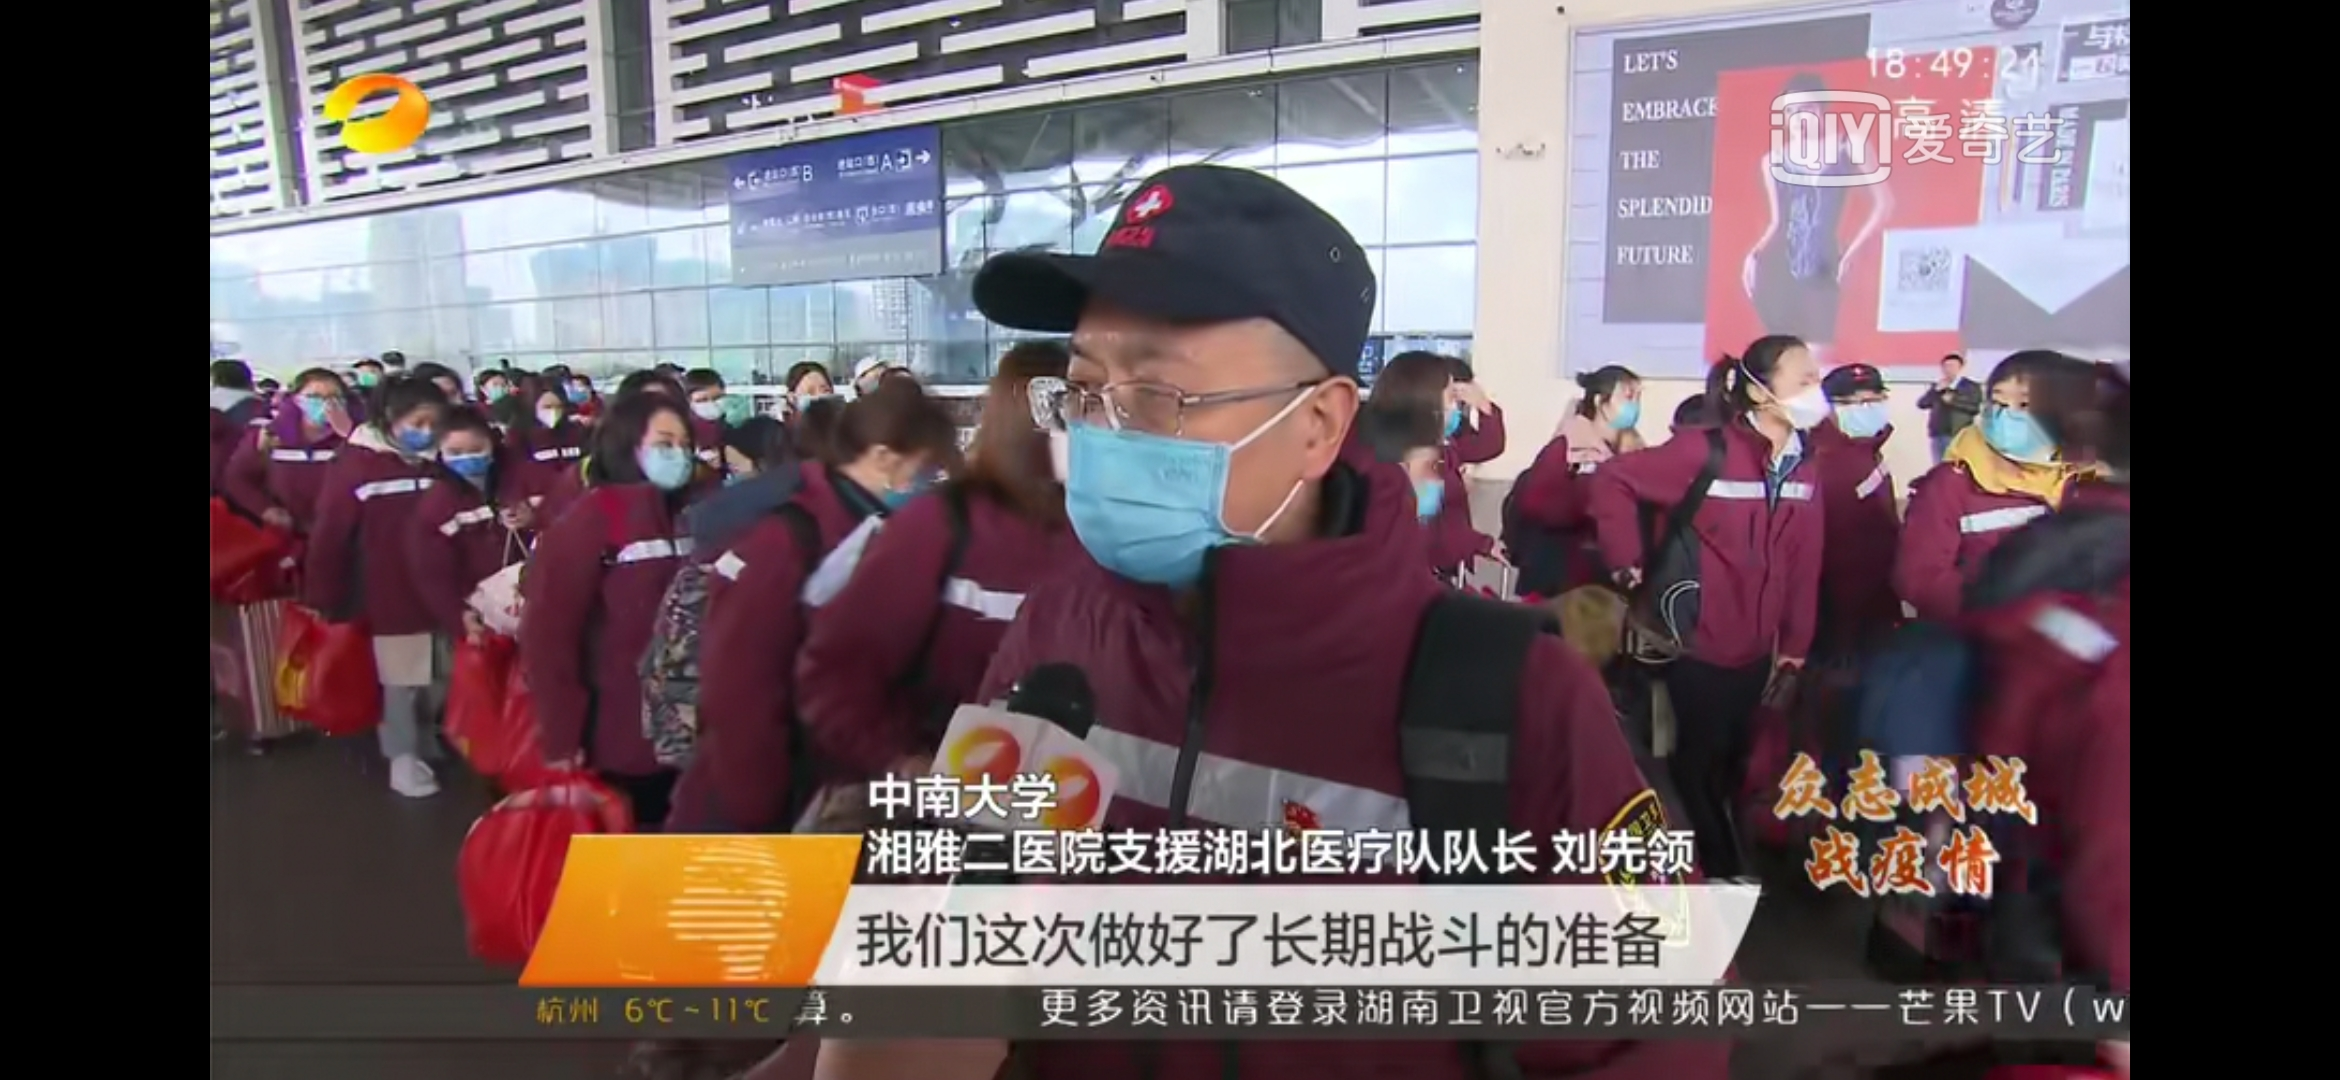correctlyWear: (1045, 306, 1355, 588), (1751, 362, 1830, 442), (1979, 383, 2050, 461), (875, 443, 942, 512), (637, 421, 695, 497), (1401, 442, 1445, 521), (1831, 386, 1889, 443), (442, 433, 495, 482), (394, 404, 442, 458), (292, 380, 348, 427), (1595, 386, 1642, 433), (691, 386, 727, 422), (537, 394, 567, 433), (481, 376, 507, 401)
